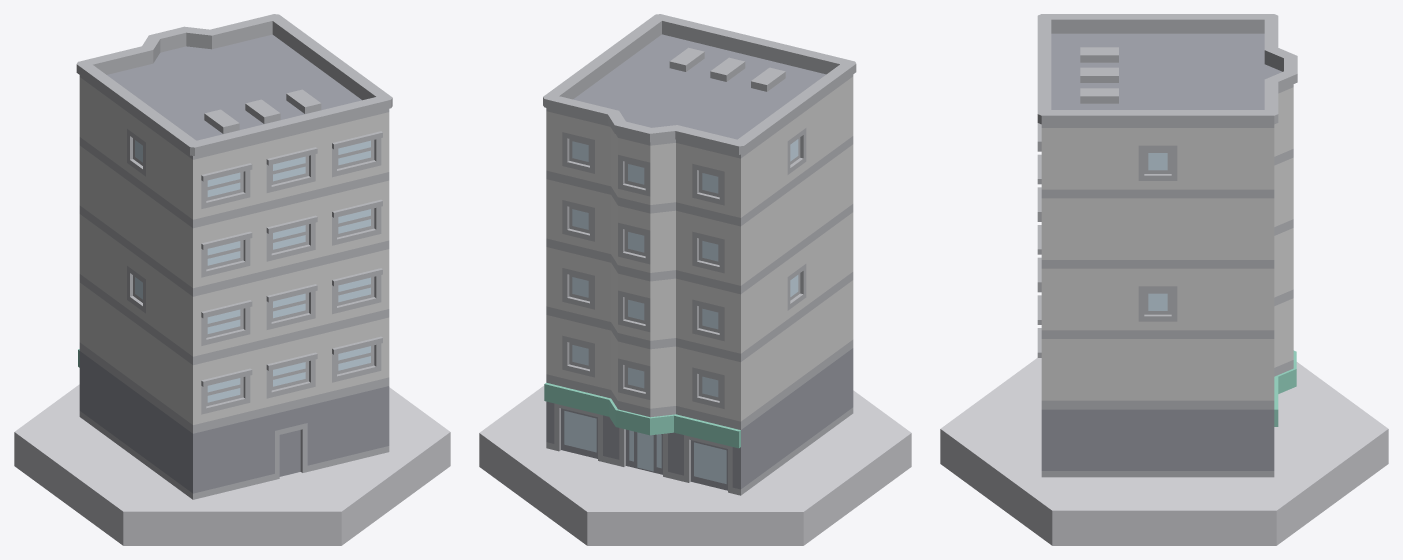
Rendered from building_2_low.fbx.
3 renders of one model, left to right at view 1: azimuth 30°, elevation 25°; view 2: azimuth 150°, elevation 25°; view 3: azimuth 270°, elevation 25°, orthographic. The views are drawn at different scales.
Visible parts, largest first — view 1: large_buildingE.001, pavement_low.015; view 2: large_buildingE.001, pavement_low.015; view 3: large_buildingE.001, pavement_low.015.
Boxes of the visible parts, x1=… form: large_buildingE.001: x1=76, y1=14, x2=392, y2=499; pavement_low.015: x1=14, y1=384, x2=450, y2=545; large_buildingE.001: x1=543, y1=14, x2=856, y2=495; pavement_low.015: x1=479, y1=385, x2=911, y2=545; large_buildingE.001: x1=1037, y1=14, x2=1297, y2=477; pavement_low.015: x1=940, y1=358, x2=1388, y2=545.
Size of the model in its own units: 100 by 113 by 115.
